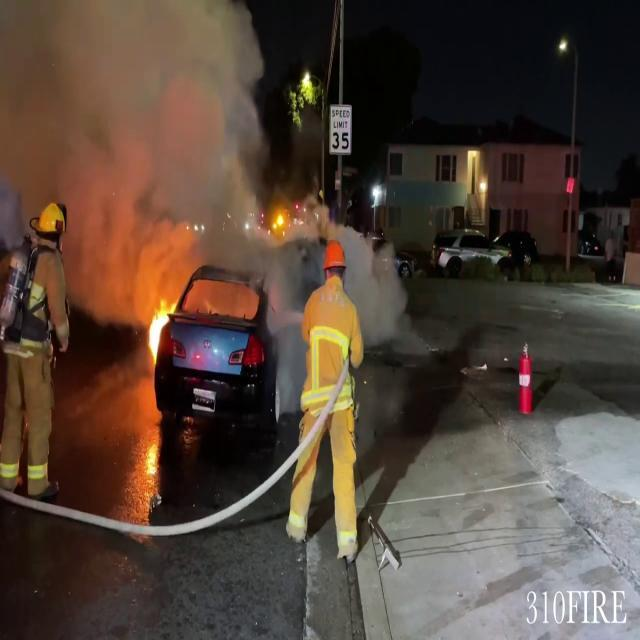Fire: (145, 294, 171, 362)
Smoke: (0, 0, 294, 313)
